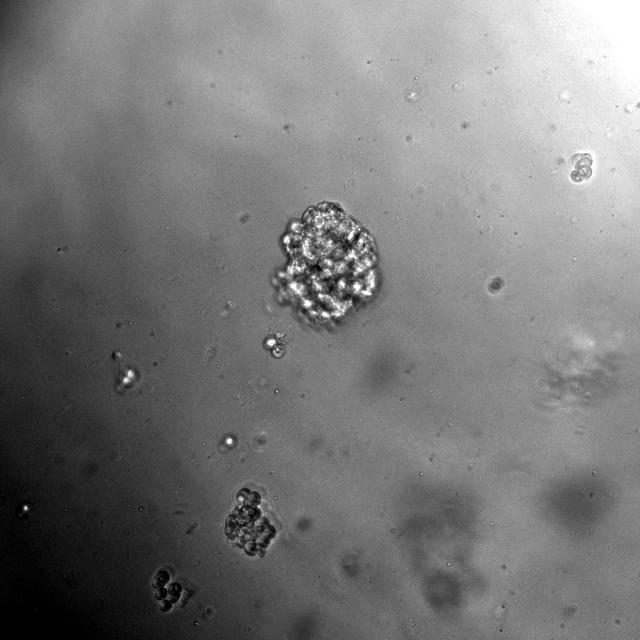organoid: (274, 201, 379, 324), (223, 487, 277, 557), (151, 567, 182, 612), (111, 349, 141, 393), (263, 316, 294, 356), (570, 153, 592, 182), (485, 275, 506, 295)
